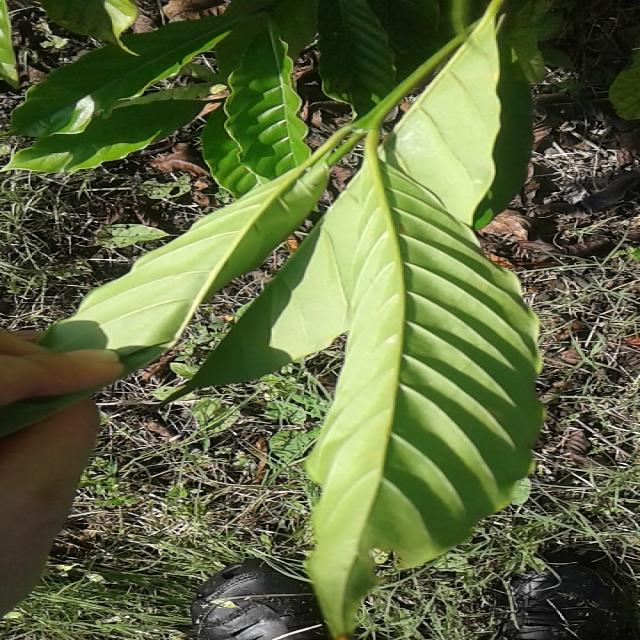Sanas: (305, 140, 541, 640)
